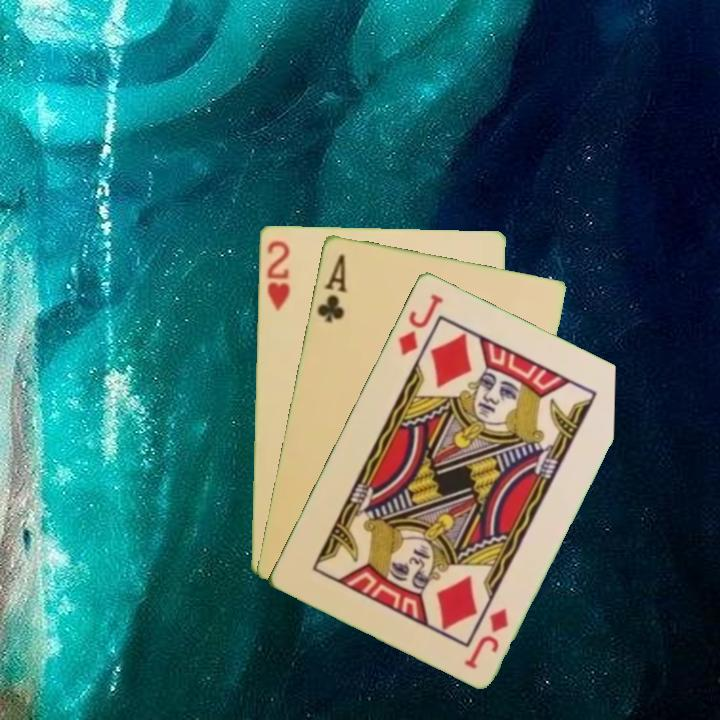2h: (262, 237, 292, 313)
Ac: (313, 249, 350, 325)
Jd: (394, 290, 446, 358), (460, 604, 511, 672)
